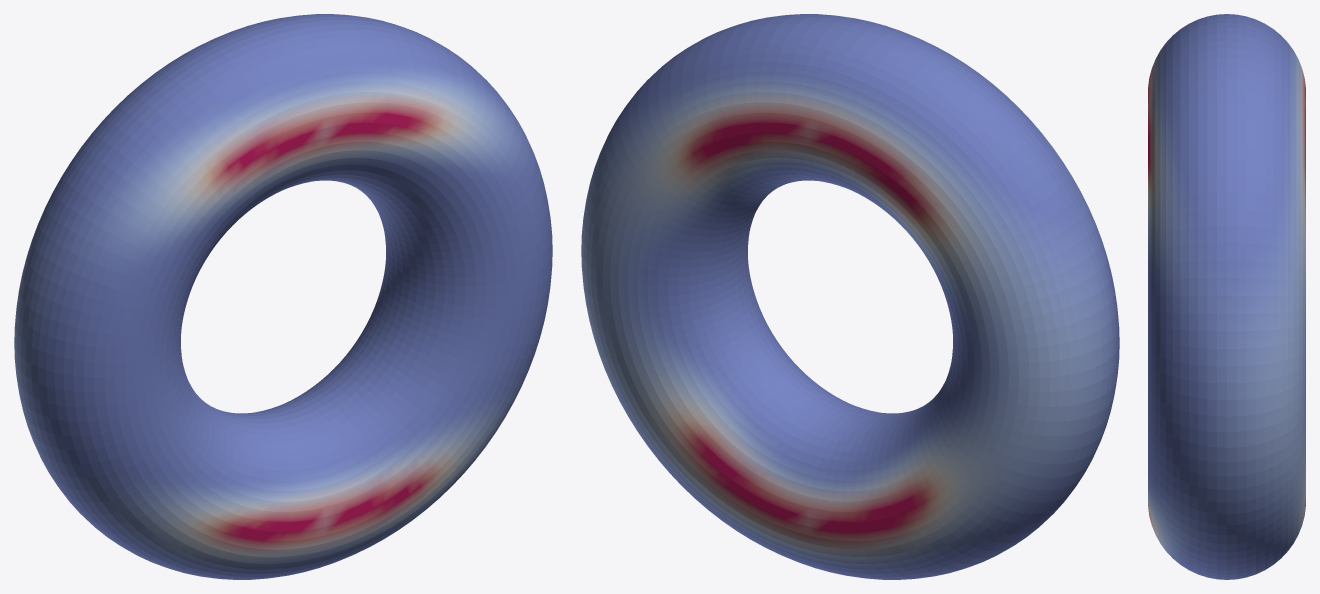
The picture shows the model from 3 angles, left to right: view 1: azimuth 30°, elevation 25°; view 2: azimuth 150°, elevation 25°; view 3: azimuth 270°, elevation 25°; orthographic projection. The views are drawn at different scales.
Parts seen in each view (by area): view 1: world; view 2: world; view 3: world.
Boxes of the visible parts, <box> form: world: <box>14,14,552,579</box>; world: <box>581,14,1119,579</box>; world: <box>1148,14,1305,579</box>.
Size of the model in its own units: 15.73 by 15.73 by 4.39.
